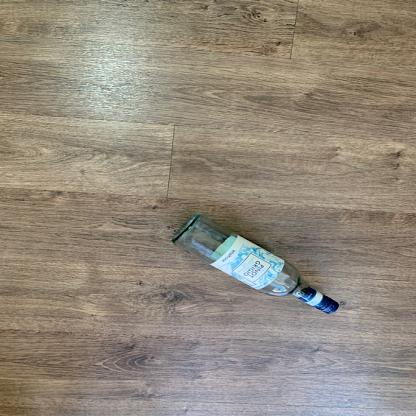trash: (166, 210, 348, 319)
